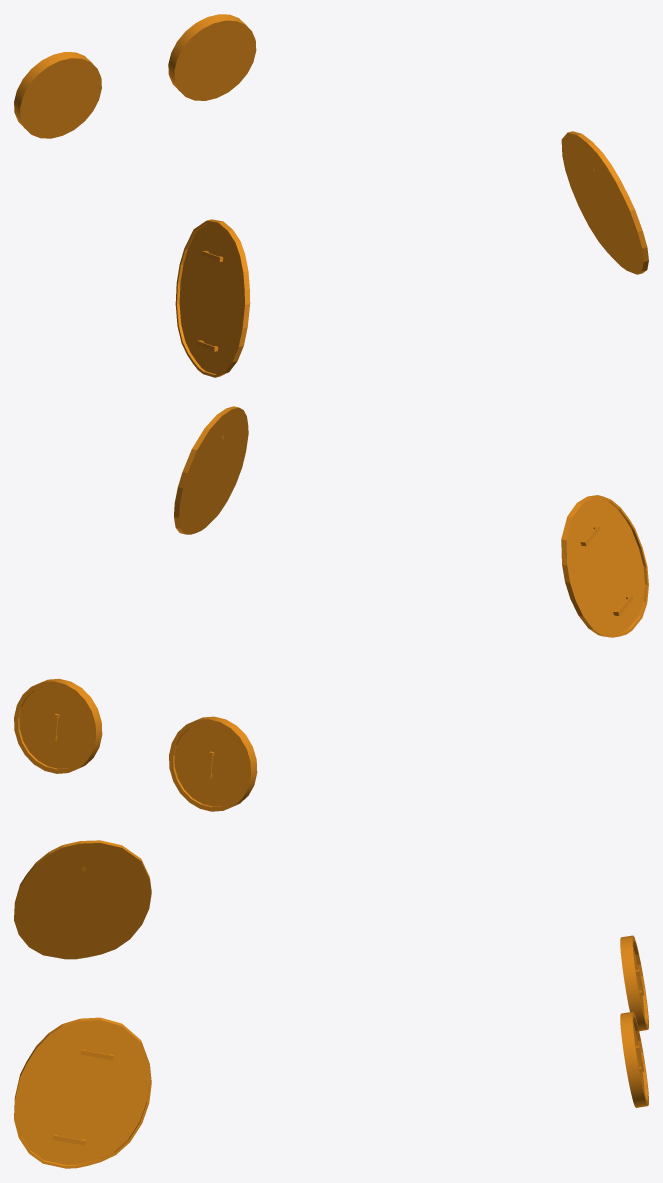
Rendered from krishka.fbx.
3 views of the same model, one above another, from view 1: azimuth 30°, elevation 25°; view 2: azimuth 150°, elevation 25°; view 3: azimuth 270°, elevation 25° (orthographic).
Parts seen in each view (by area): view 1: Крышки; view 2: Крышки; view 3: Крышки.
Part boxes in pixels (left/top/right/bottom): Крышки: left=14, top=14, right=648, bottom=377; Крышки: left=14, top=406, right=648, bottom=811; Крышки: left=14, top=840, right=648, bottom=1168.
Size of the model in its own units: 194 by 57.82 by 246.
